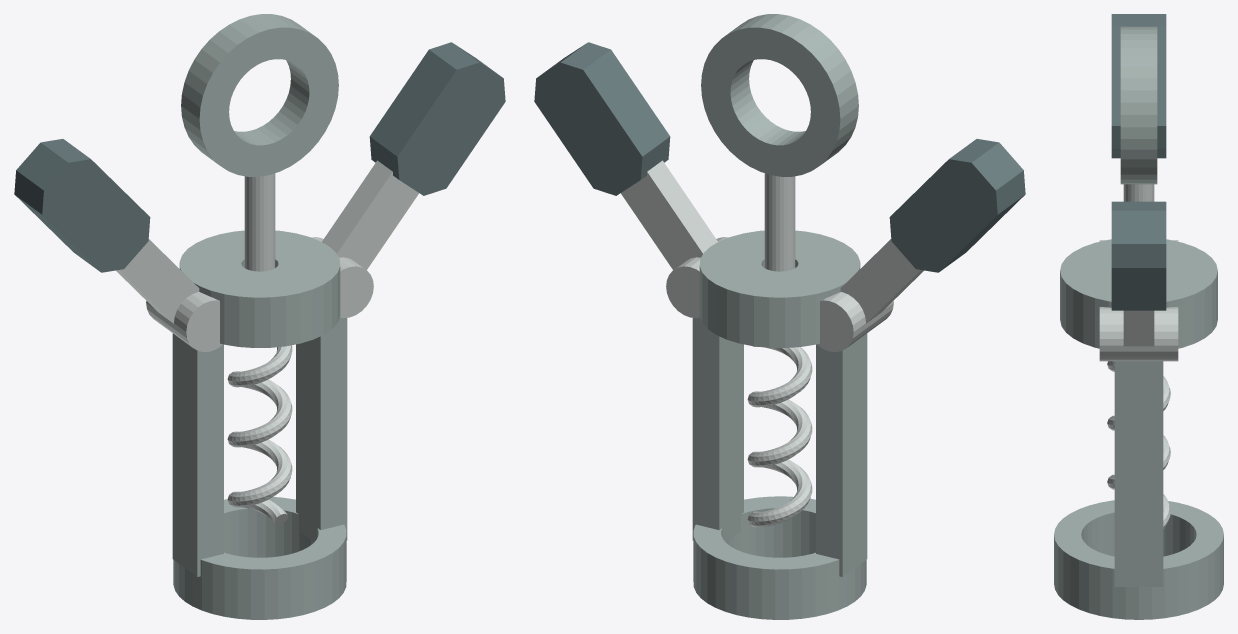
3 views of the same model, side by side, from view 1: azimuth 30°, elevation 25°; view 2: azimuth 150°, elevation 25°; view 3: azimuth 270°, elevation 25° (orthographic).
Parts seen in each view (by area): view 1: WholeOpenUpperTurnRing, WholeAnnularBottleNeckGuide, WholeUpperGuideCollar, WholeWingGripPaddle_1, WholeOpenCageUpright_-1, WholeWingGripPaddle_-1, WholeOpenCageUpright_1, WholeRaisedWingLever_1, WholeOpenCentreBluntWireHelix, WholeRaisedWingLever_-1, WholeCentralUpperStem, WholeWingPivot_-1 (+1 smaller); view 2: WholeOpenUpperTurnRing, WholeAnnularBottleNeckGuide, WholeUpperGuideCollar, WholeWingGripPaddle_1, WholeOpenCageUpright_-1, WholeWingGripPaddle_-1, WholeOpenCageUpright_1, WholeRaisedWingLever_1, WholeOpenCentreBluntWireHelix, WholeRaisedWingLever_-1, WholeCentralUpperStem, WholeWingPivot_-1 (+1 smaller); view 3: WholeAnnularBottleNeckGuide, WholeOpenCageUpright_1, WholeUpperGuideCollar, WholeWingGripPaddle_1, WholeOpenUpperTurnRing, WholeWingGripPaddle_-1, WholeWingPivot_1, WholeRaisedWingLever_1, WholeOpenCentreBluntWireHelix, WholeCentralUpperStem.
Boxes of the visible parts, x1,y1,x2,y2 form: WholeOpenUpperTurnRing: (181,14,338,176); WholeAnnularBottleNeckGuide: (173,497,346,619); WholeUpperGuideCollar: (179,230,340,347); WholeWingGripPaddle_1: (369,42,505,195); WholeOpenCageUpright_-1: (172,333,223,576); WholeWingGripPaddle_-1: (14,139,150,272); WholeOpenCageUpright_1: (296,317,347,541); WholeRaisedWingLever_1: (322,160,418,269); WholeOpenCentreBluntWireHelix: (227,345,292,524); WholeRaisedWingLever_-1: (116,239,199,323); WholeCentralUpperStem: (244,173,275,271); WholeWingPivot_-1: (146,292,222,352); WholeOpenUpperTurnRing: (701,14,858,176); WholeAnnularBottleNeckGuide: (693,496,866,619); WholeUpperGuideCollar: (699,230,860,347); WholeWingGripPaddle_1: (534,42,670,195); WholeOpenCageUpright_-1: (816,333,867,576); WholeWingGripPaddle_-1: (889,139,1025,272); WholeOpenCageUpright_1: (692,317,743,541); WholeRaisedWingLever_1: (621,160,717,269); WholeOpenCentreBluntWireHelix: (747,346,812,527); WholeRaisedWingLever_-1: (840,239,923,323); WholeCentralUpperStem: (764,173,795,271); WholeWingPivot_-1: (817,292,893,352); WholeAnnularBottleNeckGuide: (1054,500,1223,619); WholeOpenCageUpright_1: (1114,361,1163,586); WholeUpperGuideCollar: (1060,239,1217,348); WholeWingGripPaddle_1: (1111,201,1166,310); WholeOpenUpperTurnRing: (1120,26,1157,184); WholeWingGripPaddle_-1: (1111,14,1166,158); WholeWingPivot_1: (1099,307,1178,361); WholeRaisedWingLever_1: (1123,310,1154,346); WholeOpenCentreBluntWireHelix: (1107,361,1170,528); WholeCentralUpperStem: (1123,184,1154,201).
Size of the model in its own units: 0.1729 by 0.2 by 0.056.
